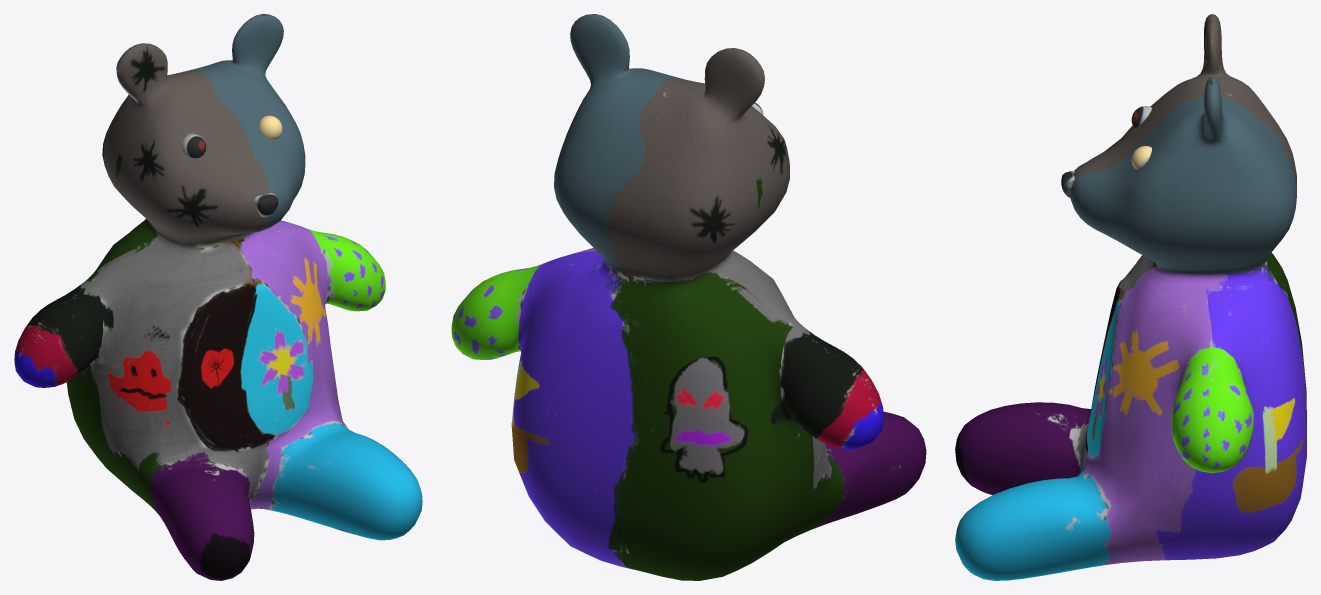
Rendered from patchwork_teddy_bear.glb.
3 renders of one model, left to right at view 1: azimuth 30°, elevation 25°; view 2: azimuth 150°, elevation 25°; view 3: azimuth 270°, elevation 25°, orthographic. The views are drawn at different scales.
Parts seen in each view (by area): view 1: TeddyBear; view 2: TeddyBear; view 3: TeddyBear.
Boxes of the visible parts, x1,y1,x2,y2 form: TeddyBear: [14, 14, 422, 580]; TeddyBear: [451, 14, 926, 580]; TeddyBear: [955, 14, 1306, 580].
Size of the model in its own units: 80.4 by 96.4 by 62.68.
Materials: 1 (1 with a texture image).
